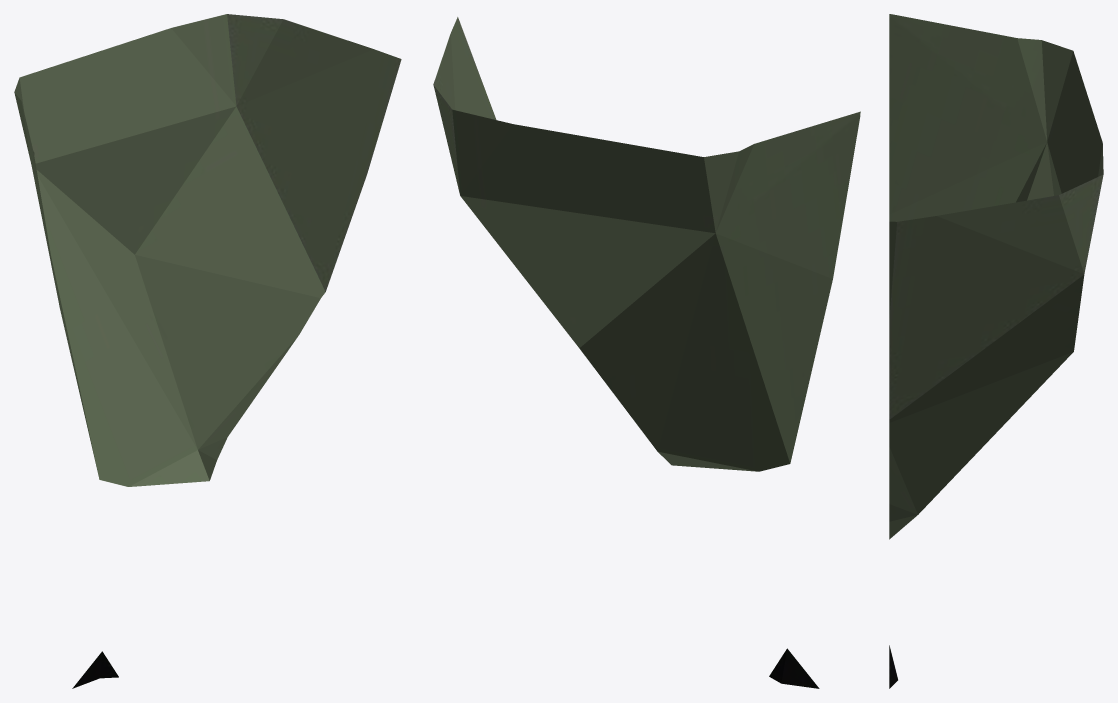
3 views of the same model, side by side, from view 1: azimuth 30°, elevation 25°; view 2: azimuth 150°, elevation 25°; view 3: azimuth 270°, elevation 25° (orthographic). The views are drawn at different scales.
Bounding box in the file's own units: 2.1 × 2.95 × 0.9131.
Materials: 2 (2 with a texture image).
